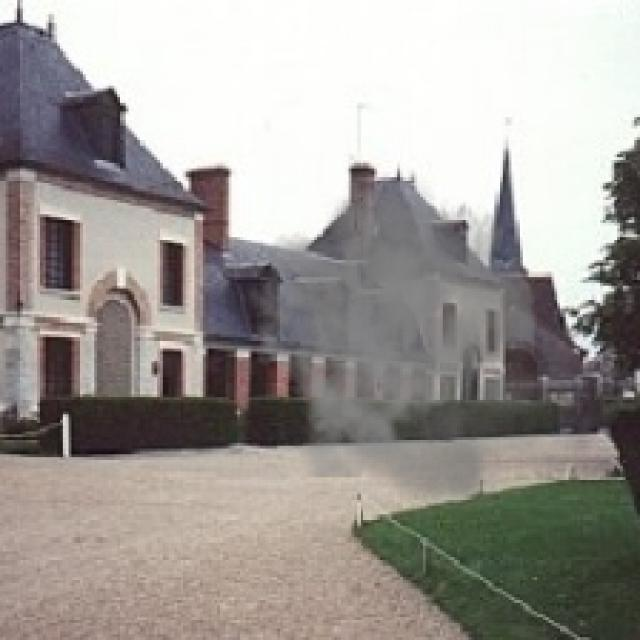Smoke: (245, 166, 638, 523)
